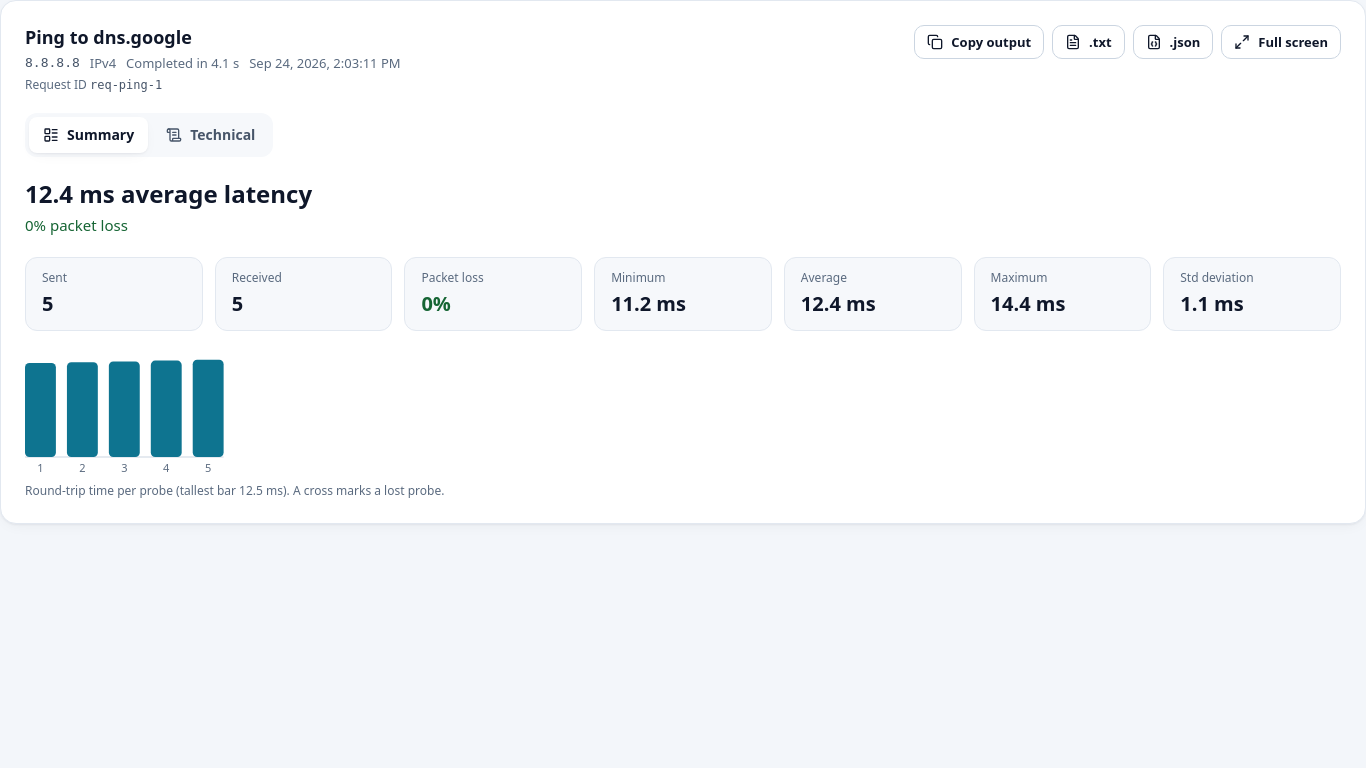
Scenario: ResultPanel › opens a full screen dialog and closes it with Escape
Click the button "Full screen" at (1281,42), box [1221,25,1341,59]
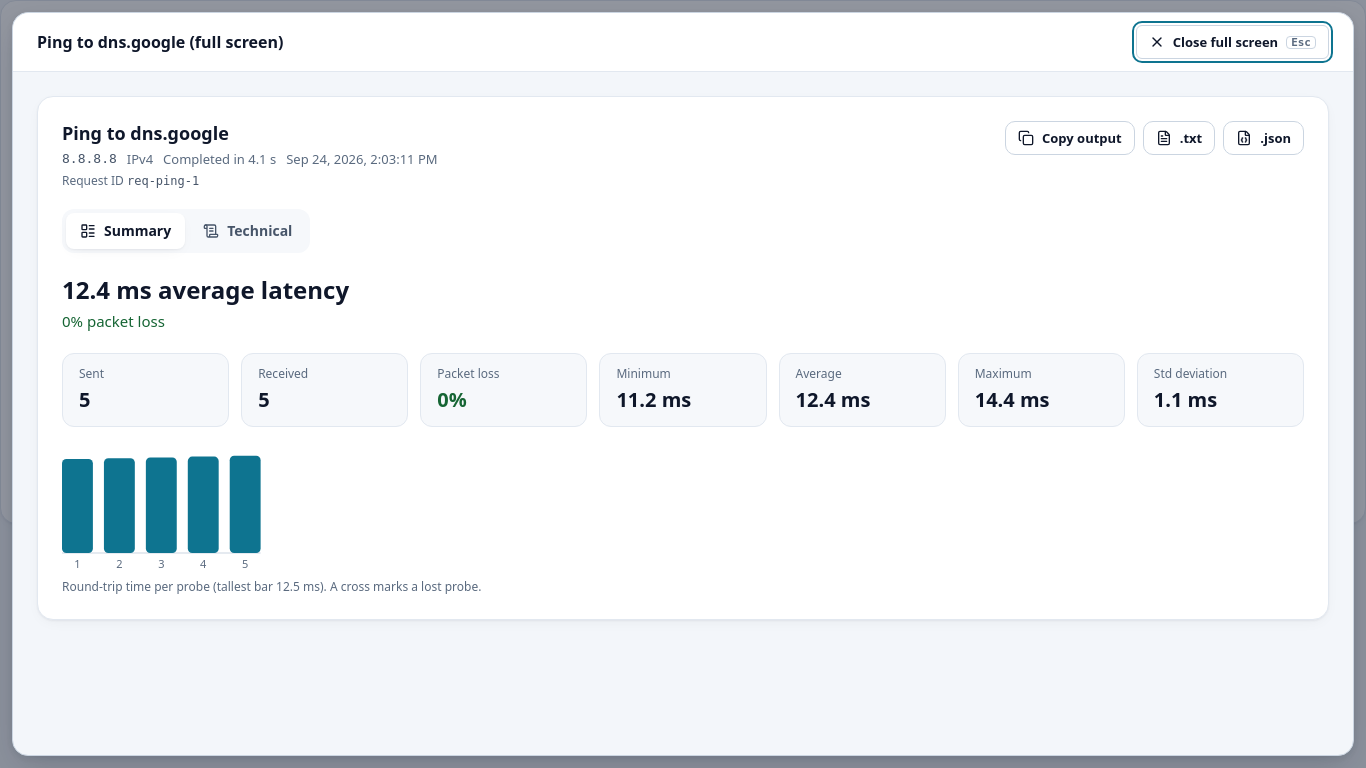
Expected: the text "12.4 ms average latency" is shown, [62,273,349,306]
Press Escape
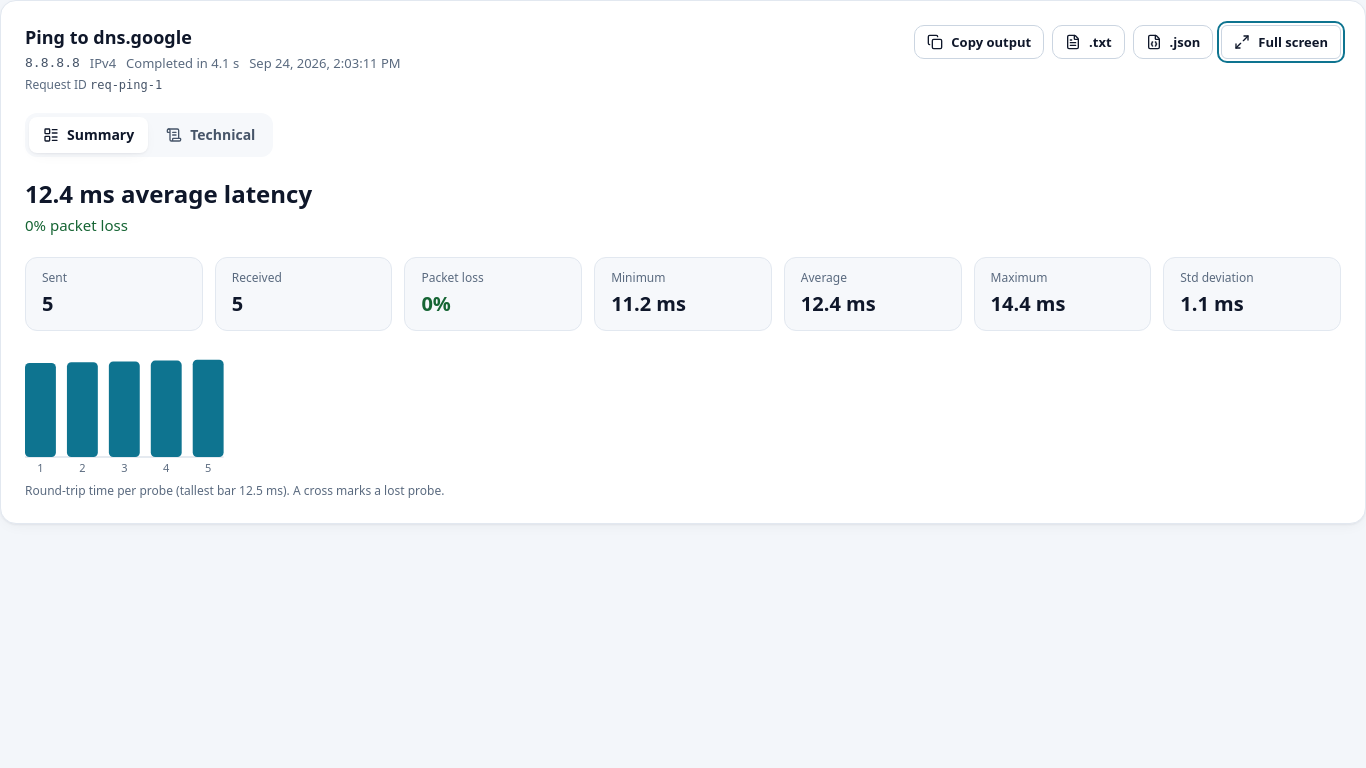
Expected: the dialog is gone
